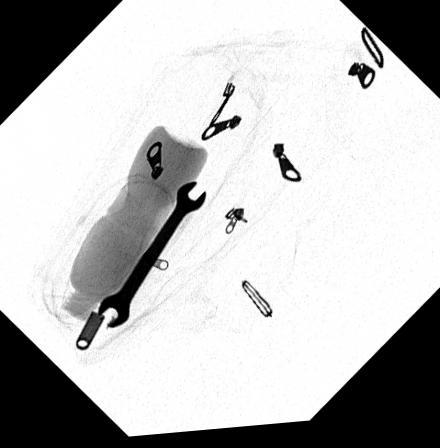Wrench: (96, 183, 206, 330)
